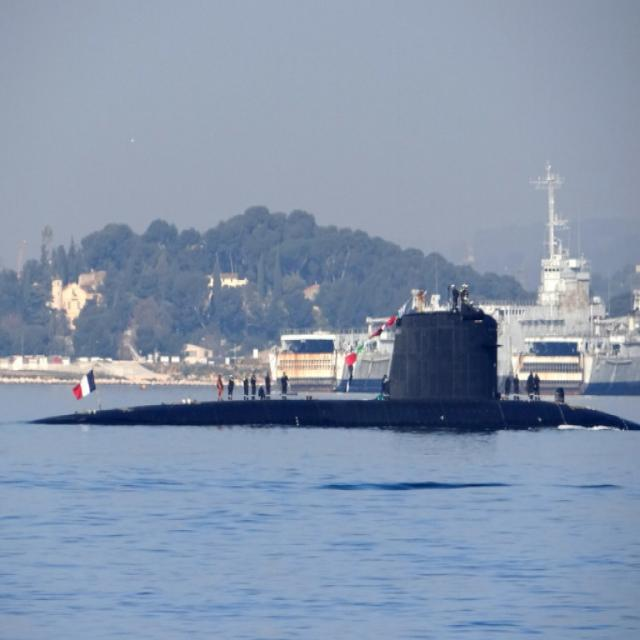submarine: (1, 312, 640, 422)
